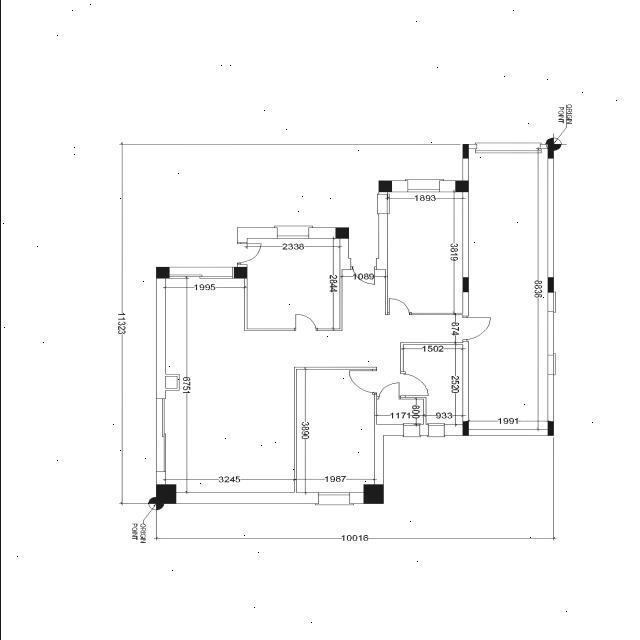Column: (362, 484, 382, 504), (156, 484, 176, 504), (155, 266, 169, 278), (232, 266, 246, 278), (378, 180, 392, 192), (454, 180, 468, 192), (334, 228, 348, 238), (547, 277, 553, 293), (547, 421, 553, 436), (462, 421, 468, 436), (546, 144, 552, 158), (462, 144, 468, 158), (462, 278, 468, 292)
Door: (348, 368, 377, 396), (348, 257, 376, 285), (461, 316, 490, 342), (400, 372, 428, 398), (236, 242, 262, 265), (386, 298, 412, 316), (292, 314, 318, 332), (376, 382, 399, 399)
Sliding Door: (153, 397, 167, 473), (167, 273, 234, 280)
Window: (472, 142, 542, 154), (272, 224, 314, 240), (403, 178, 444, 194), (313, 492, 354, 506), (375, 193, 389, 215), (402, 422, 420, 438), (426, 423, 444, 437), (546, 352, 556, 377), (546, 292, 556, 314)
